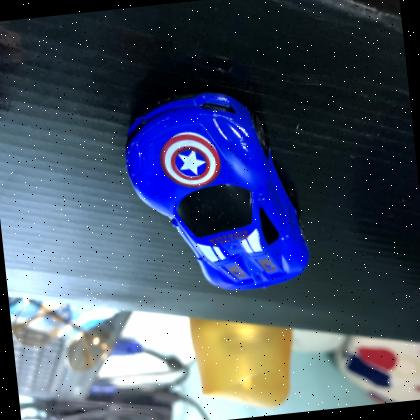Car: (124, 90, 309, 289)
